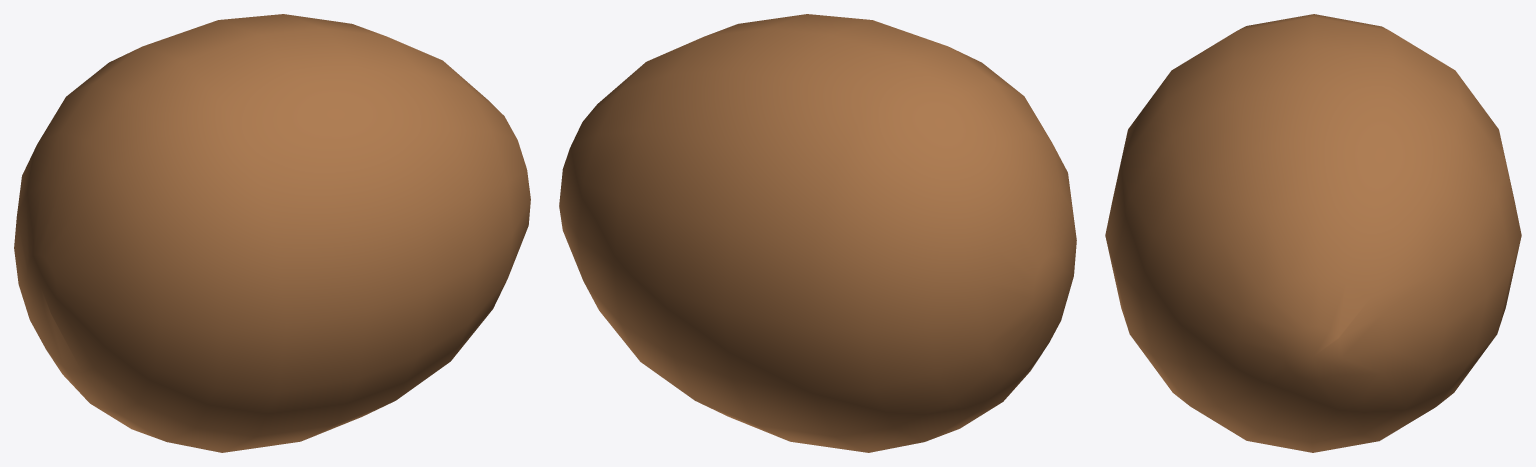
File: egg.fbx
The picture shows the model from 3 angles, left to right: view 1: azimuth 30°, elevation 25°; view 2: azimuth 150°, elevation 25°; view 3: azimuth 270°, elevation 25°; orthographic projection. The views are drawn at different scales.
Parts seen in each view (by area): view 1: egg; view 2: egg; view 3: egg.
Boxes of the visible parts, left/top/right/bottom form: egg: left=14, top=14, right=530, bottom=452; egg: left=559, top=14, right=1076, bottom=452; egg: left=1105, top=14, right=1521, bottom=452.
Bounding box in the file's own units: 1.92 × 1.51 × 1.51.
